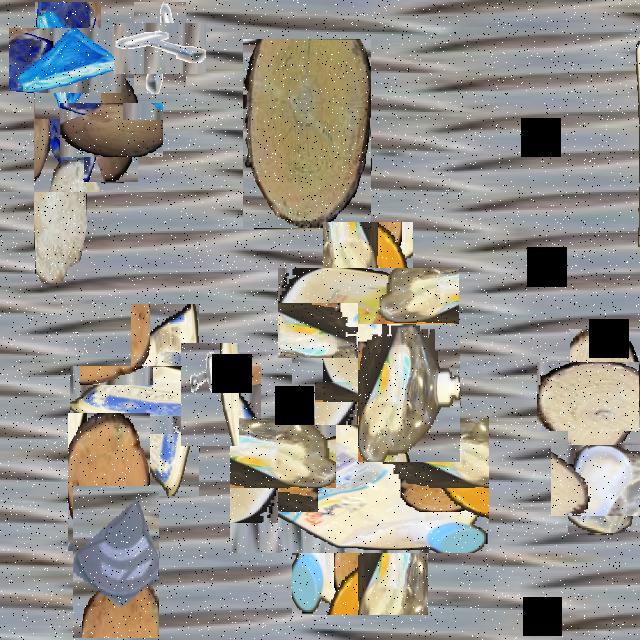glass: (73, 486, 159, 638), (22, 15, 114, 106), (34, 75, 100, 192)
metal: (181, 343, 239, 446), (124, 12, 196, 84)
plastic: (261, 387, 459, 584), (300, 245, 436, 381), (100, 335, 230, 465), (358, 324, 460, 462), (559, 435, 640, 524), (633, 2, 640, 250)
wood: (243, 39, 371, 228), (68, 413, 150, 551), (553, 345, 640, 447), (34, 158, 86, 283), (72, 91, 150, 169), (324, 372, 388, 435)
